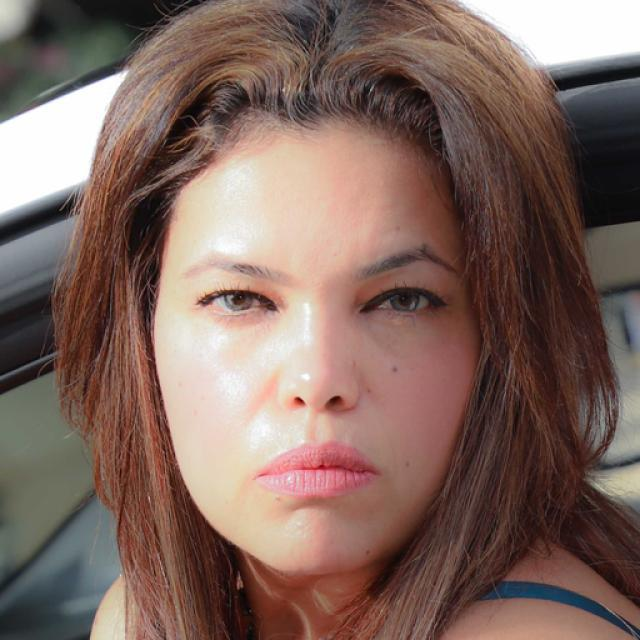sad: (150, 103, 488, 576)
